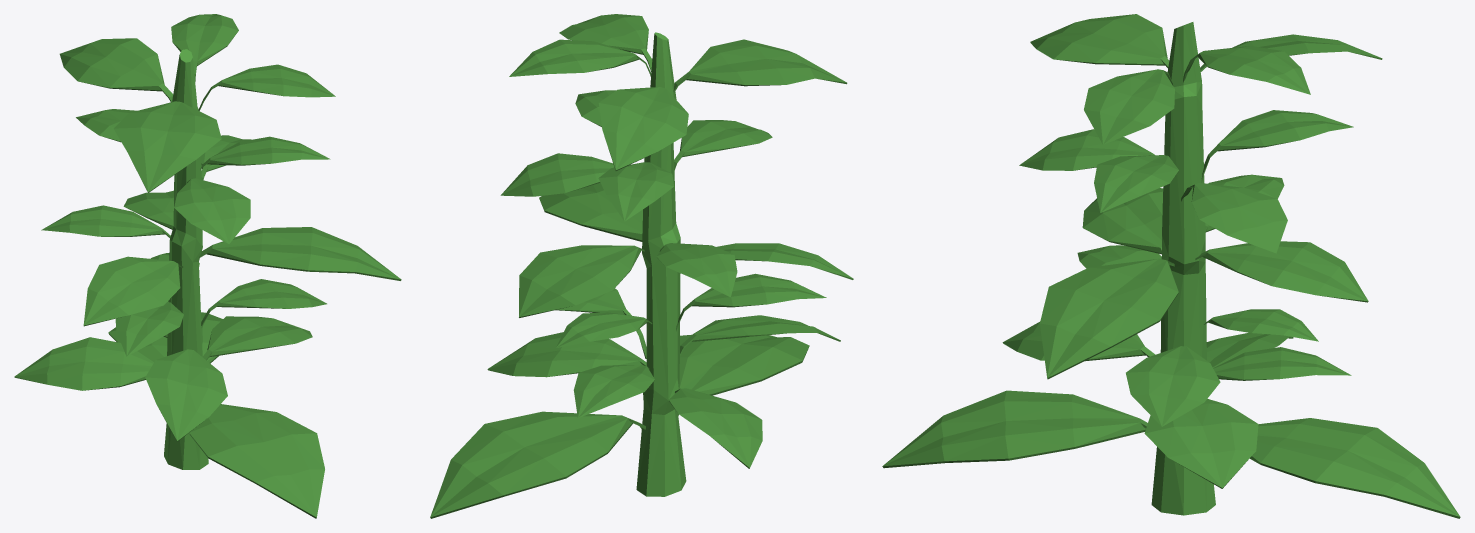
File: plant02.fbx
3 renders of one model, left to right at view 1: azimuth 30°, elevation 25°; view 2: azimuth 150°, elevation 25°; view 3: azimuth 270°, elevation 25°, orthographic. The views are drawn at different scales.
Visible parts, largest first — view 1: plant02_LOD0; view 2: plant02_LOD0; view 3: plant02_LOD0.
Part boxes in pixels (x1,y1,x2,y2): plant02_LOD0: (14,14,401,518); plant02_LOD0: (430,14,853,518); plant02_LOD0: (882,14,1460,518).
Size of what is drawn, in the model's own units: 115 by 151 by 164.
